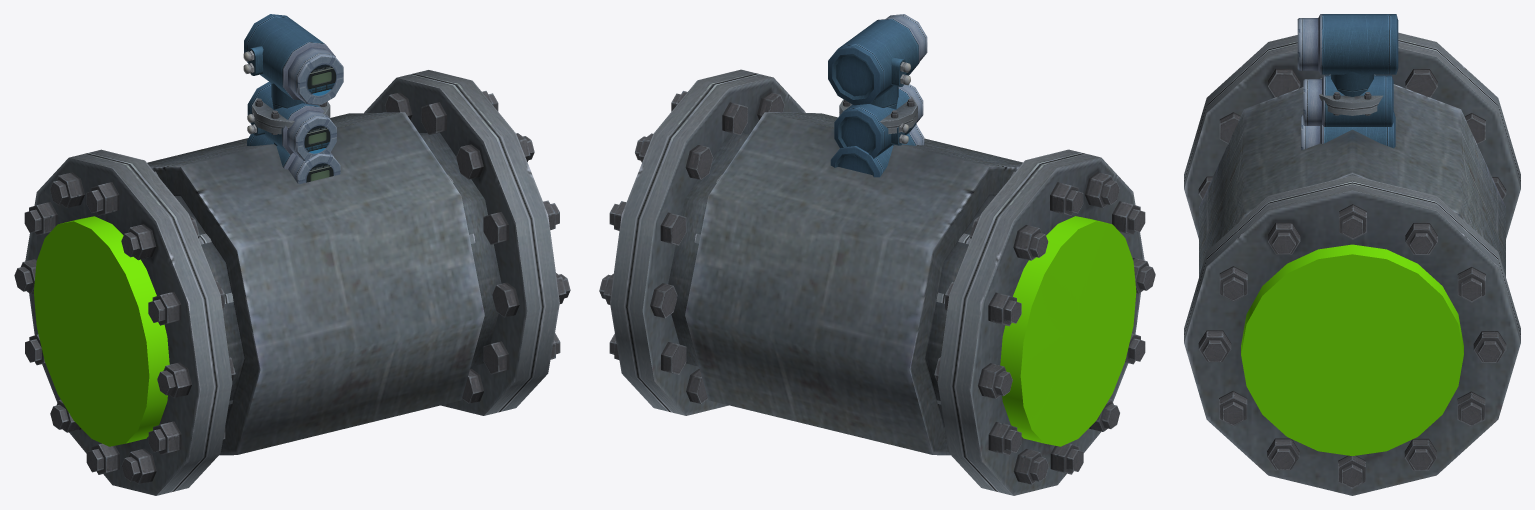
The model's file is FlowMeter_Group.fbx.
3 renders of one model, left to right at view 1: azimuth 30°, elevation 25°; view 2: azimuth 150°, elevation 25°; view 3: azimuth 270°, elevation 25°, orthographic. The views are drawn at different scales.
Visible parts, largest first — view 1: Body (×3), Point_Pos; view 2: Body (×3), Point_Pos; view 3: Body (×3), Point_Pos.
Boxes of the visible parts, <box> form: Body (×3): <box>14,14,570,495</box>; Point_Pos: <box>33,216,169,446</box>; Body (×3): <box>599,14,1155,495</box>; Point_Pos: <box>1000,216,1136,446</box>; Body (×3): <box>1184,14,1520,495</box>; Point_Pos: <box>1241,244,1463,455</box>.
Size of the model in its own units: 6.57 by 6.41 by 4.95.
2 materials, 1 textured.
